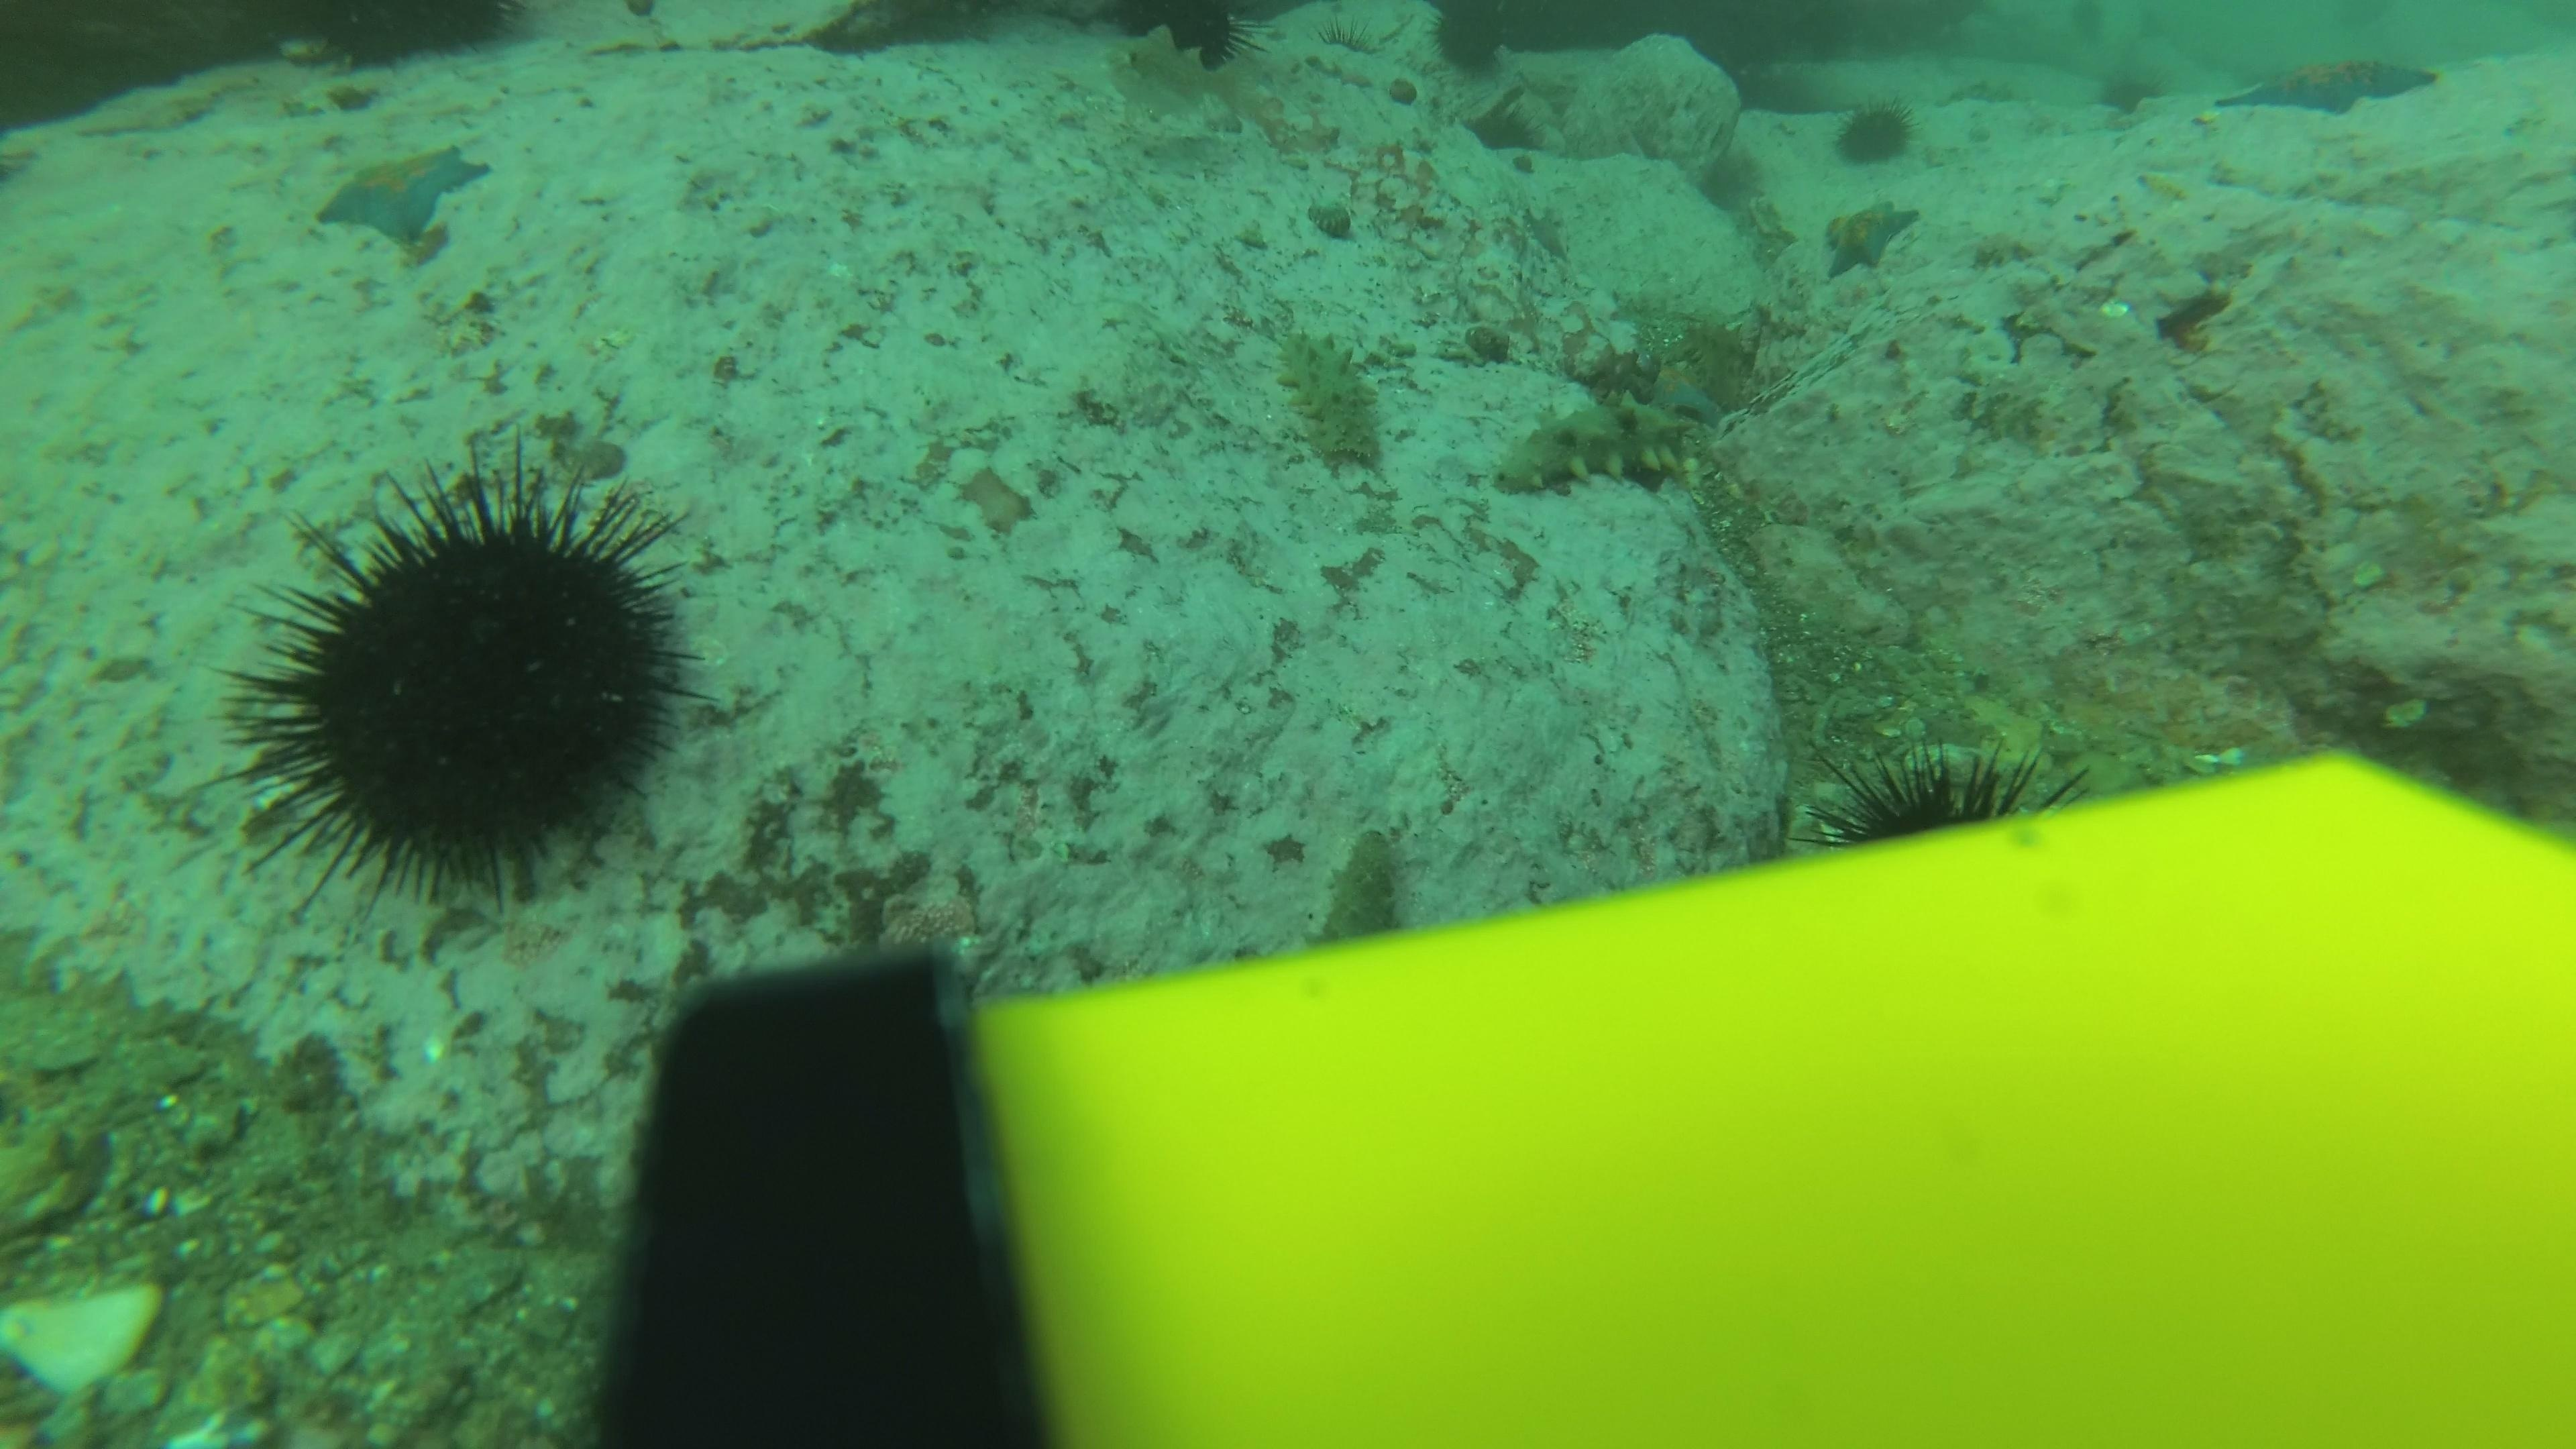echinus: (228, 455, 706, 906), (1806, 734, 2068, 853), (1102, 0, 1261, 83), (1422, 2, 1522, 81), (1829, 94, 1920, 170), (2093, 62, 2164, 122)
holothurian: (1488, 396, 1711, 501), (1270, 322, 1392, 479), (1313, 823, 1415, 950), (1683, 310, 1778, 430)
starfish: (310, 136, 497, 253), (2215, 46, 2442, 122), (1817, 195, 1923, 280), (1640, 354, 1737, 430), (1513, 200, 1575, 264)
